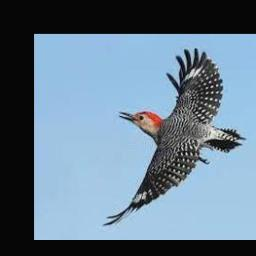Woodpecker: (101, 47, 246, 226)
